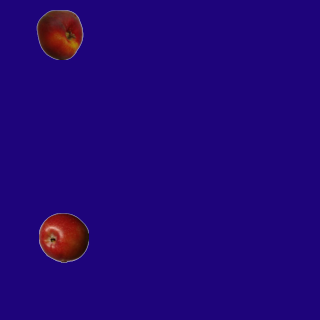Apple Braeburn: (38, 212, 88, 262)
Nectarine Flat: (34, 9, 84, 59)
